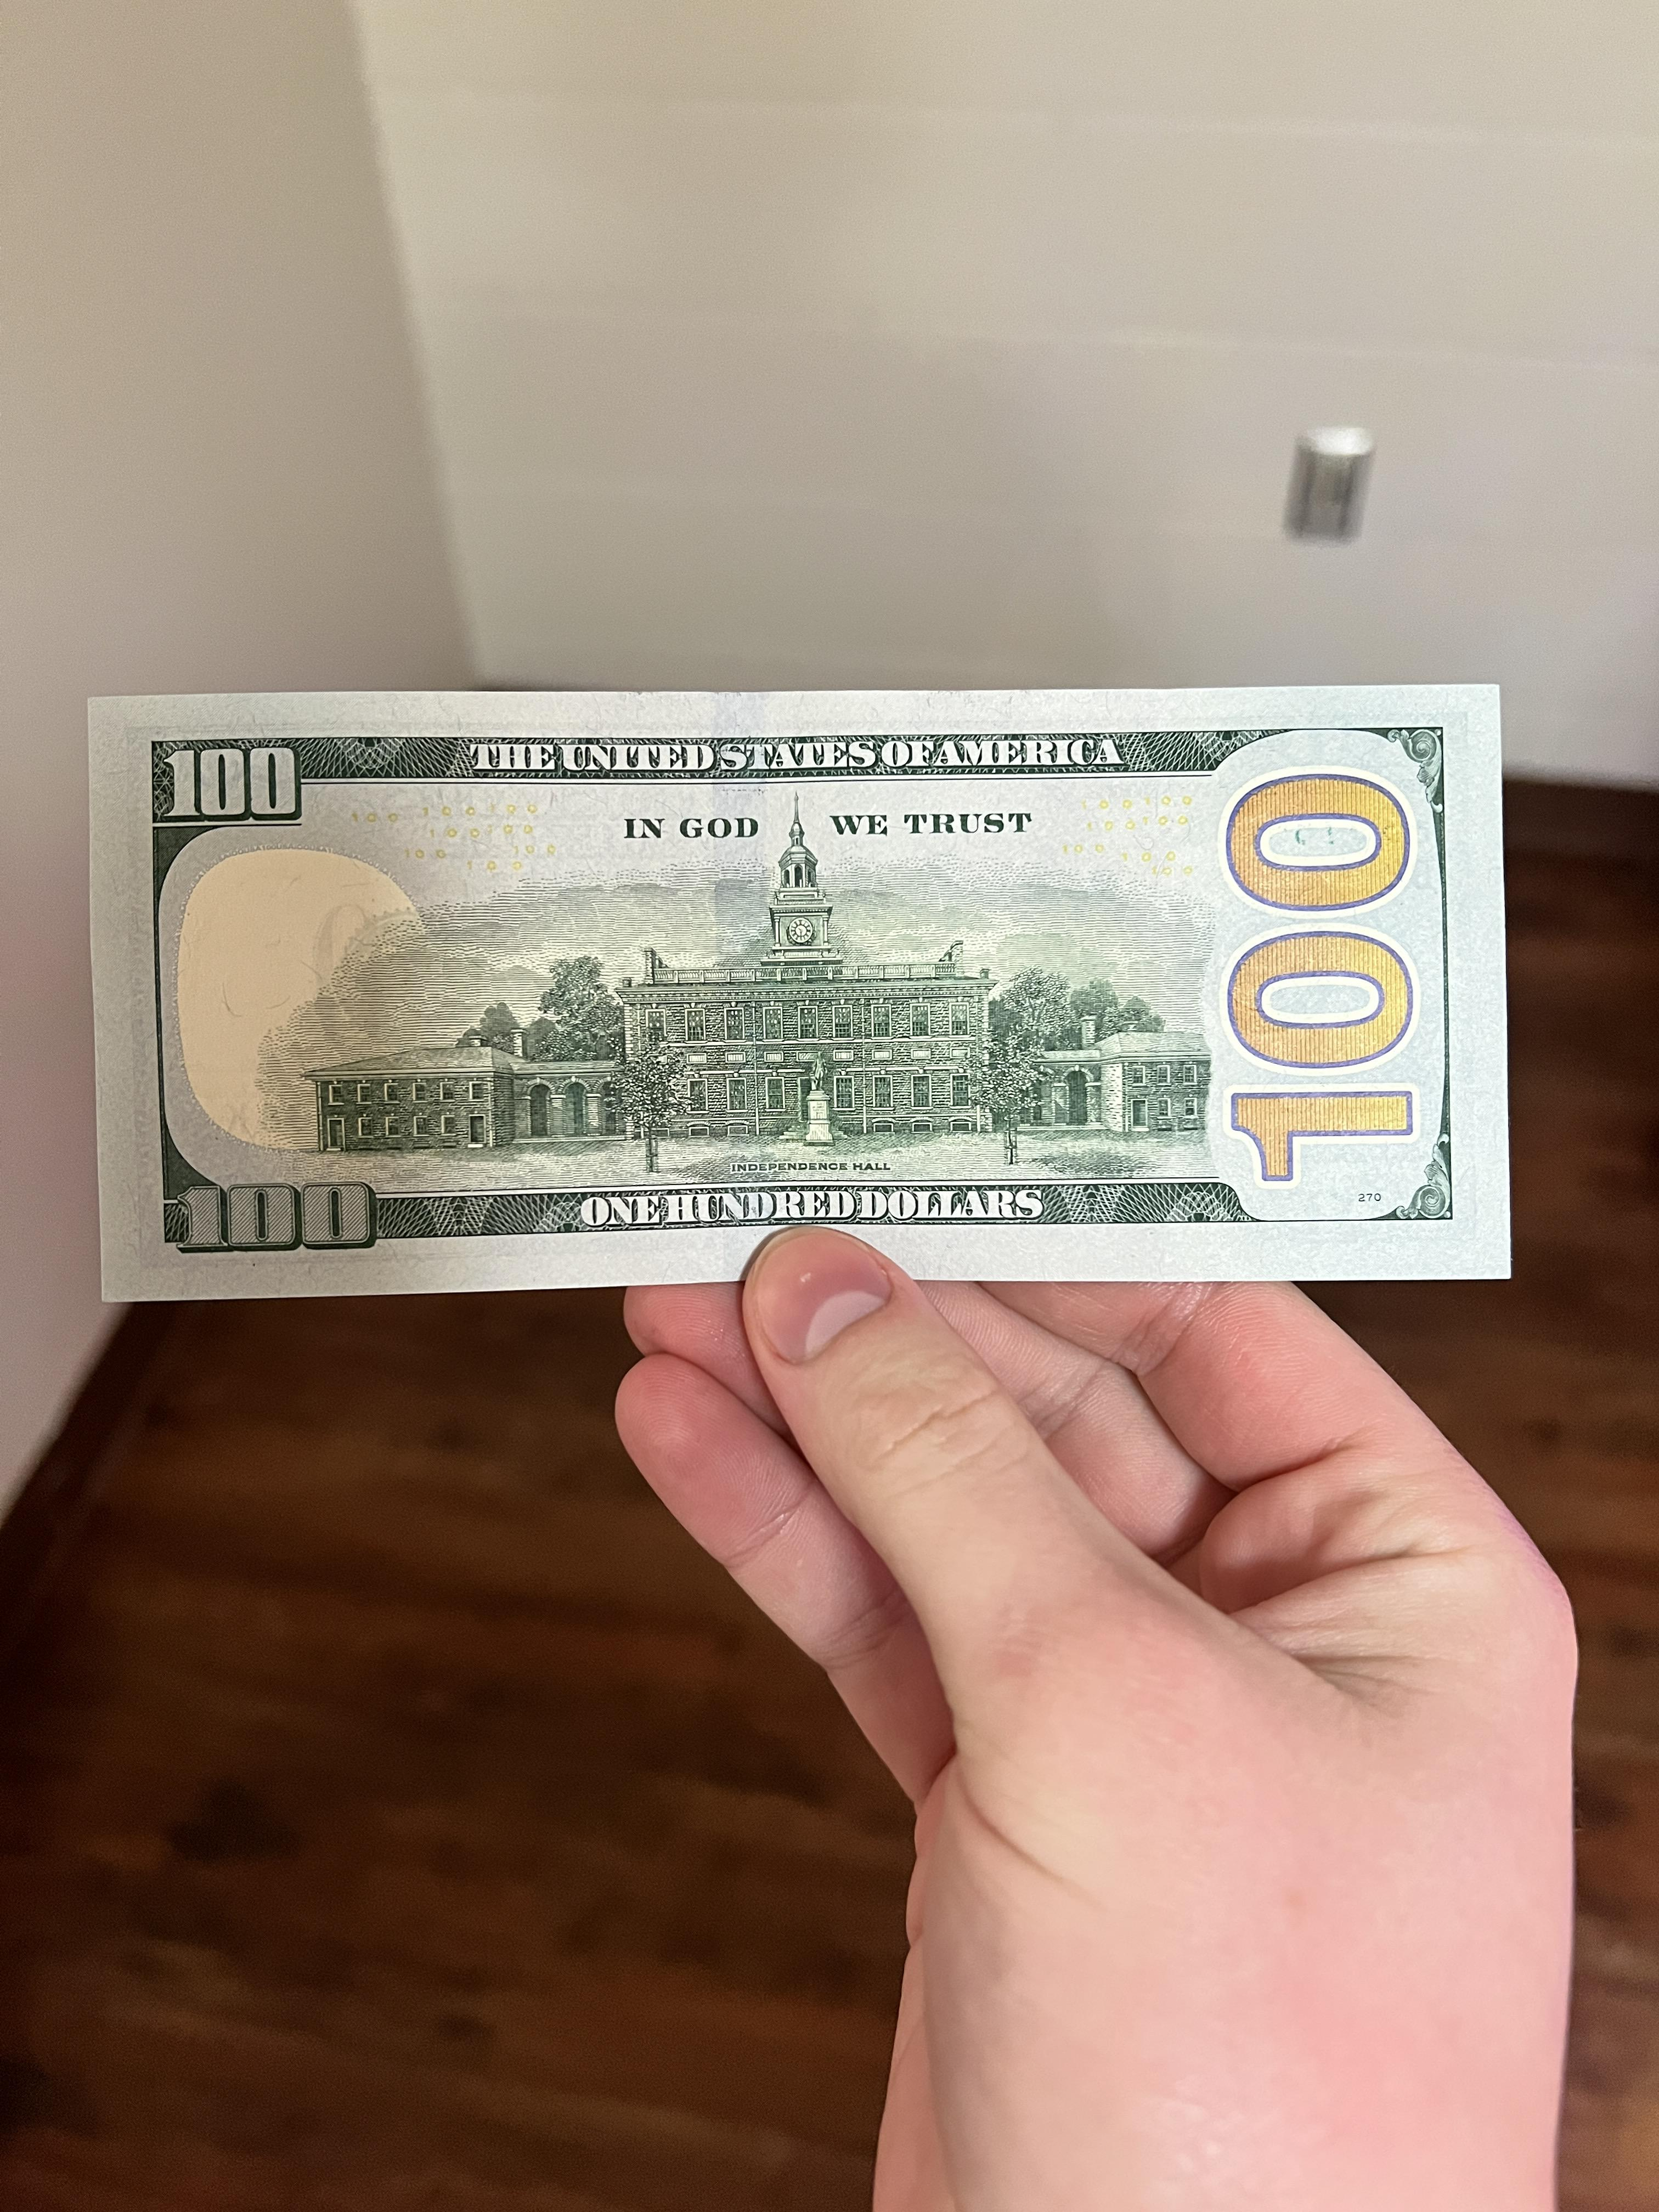HundredBill: (73, 681, 1520, 1291)
